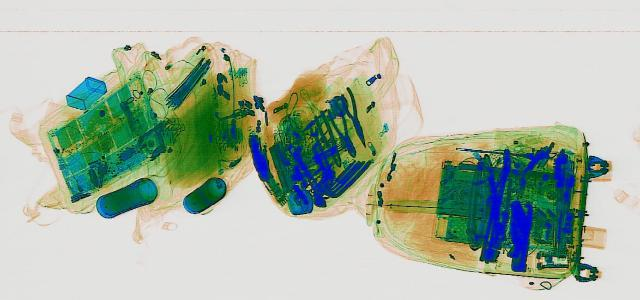Pliers: (332, 85, 376, 147), (306, 109, 348, 165), (323, 106, 362, 156)
